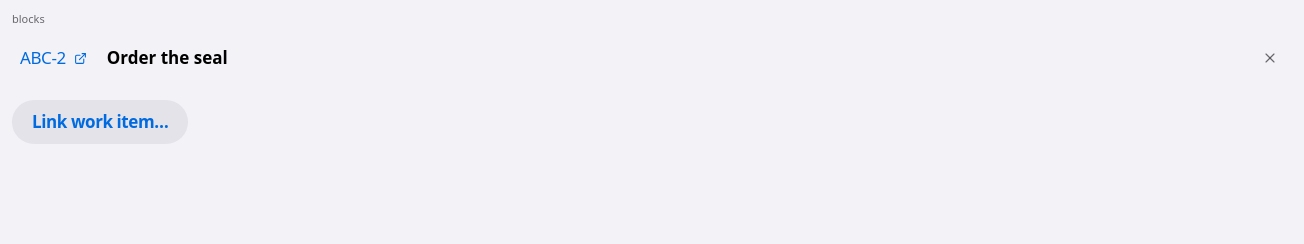
Test: the issue picker inside the form › never offers the issue being linked from
Click the button "Link work item…": (100, 122) [12,100,188,144]
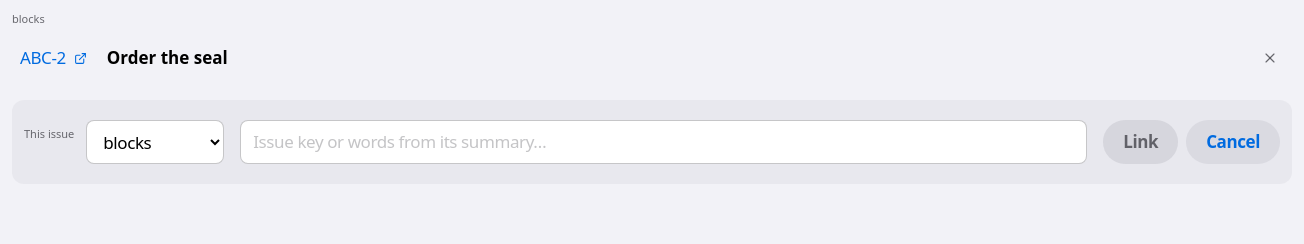
In the field: (664, 142) [240,120,1087,164], type "a"
Wait 250 ms
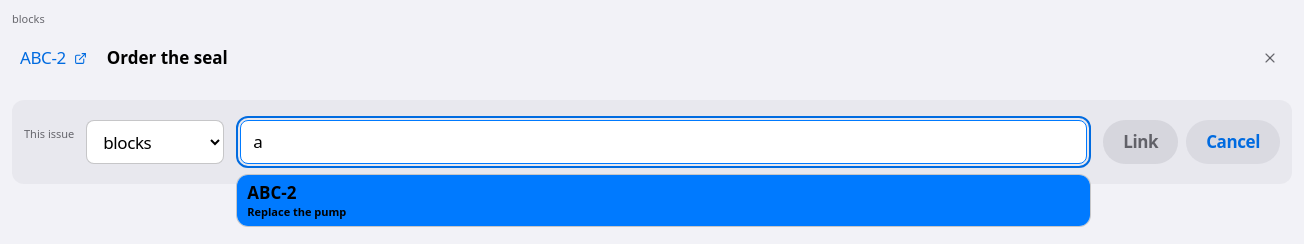
Check: the option "ABC-2 Replace the pump" is shown, box [237,175,1090,226]
